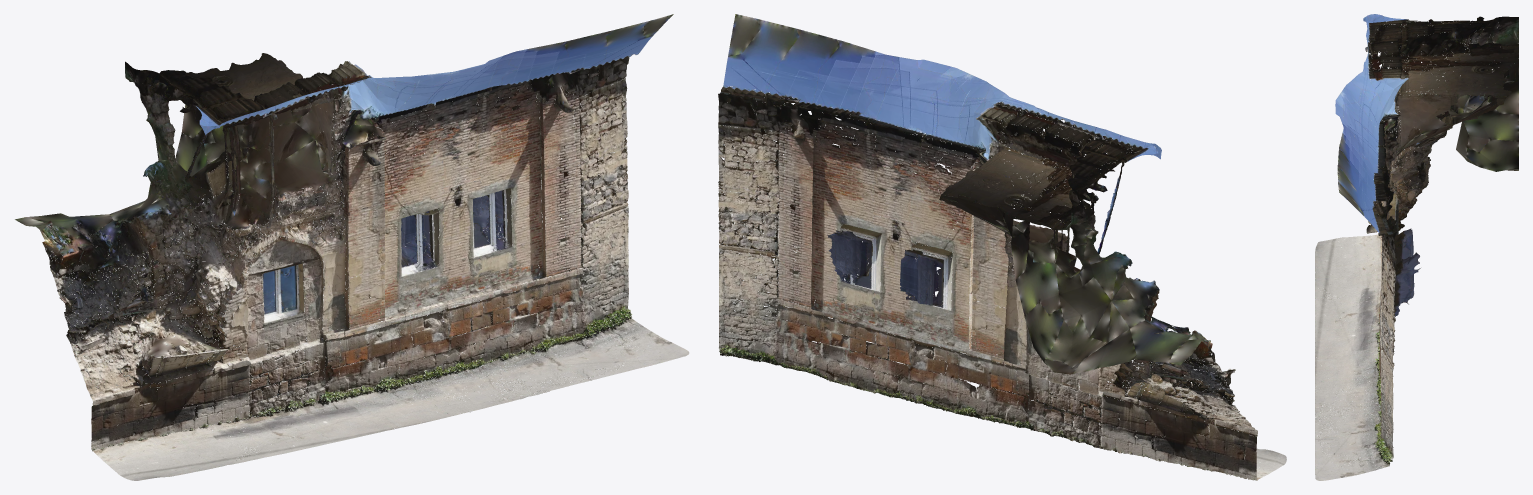
The model's file is preview.glb.
The picture shows the model from 3 angles, left to right: view 1: azimuth 30°, elevation 25°; view 2: azimuth 150°, elevation 25°; view 3: azimuth 270°, elevation 25°; orthographic projection. The views are drawn at different scales.
Visible parts, largest first — view 1: Mosque_facade_Mosque_facade_u1_v1_0, Mosque_facade_Mosque_facade_u2_v1_0; view 2: Mosque_facade_Mosque_facade_u1_v1_0, Mosque_facade_Mosque_facade_u2_v1_0; view 3: Mosque_facade_Mosque_facade_u1_v1_0, Mosque_facade_Mosque_facade_u2_v1_0.
Boxes of the visible parts, bbox=[...] form: Mosque_facade_Mosque_facade_u1_v1_0: bbox=[26, 14, 689, 480]; Mosque_facade_Mosque_facade_u2_v1_0: bbox=[15, 54, 642, 464]; Mosque_facade_Mosque_facade_u1_v1_0: bbox=[718, 14, 1286, 480]; Mosque_facade_Mosque_facade_u2_v1_0: bbox=[718, 59, 1263, 480]; Mosque_facade_Mosque_facade_u1_v1_0: bbox=[1315, 14, 1518, 480]; Mosque_facade_Mosque_facade_u2_v1_0: bbox=[1315, 16, 1518, 469].
Size of the model in its own units: 15.4 by 8.8 by 5.6.
2 materials, 2 textured.
